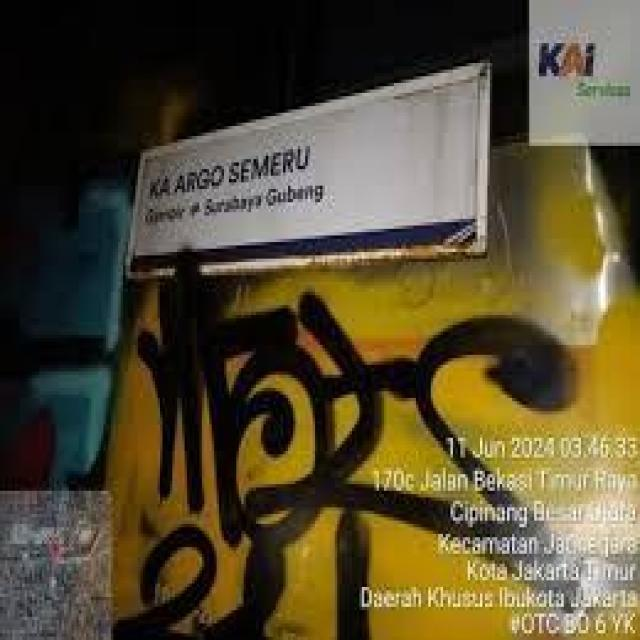nonspitting: (110, 245, 574, 639)
